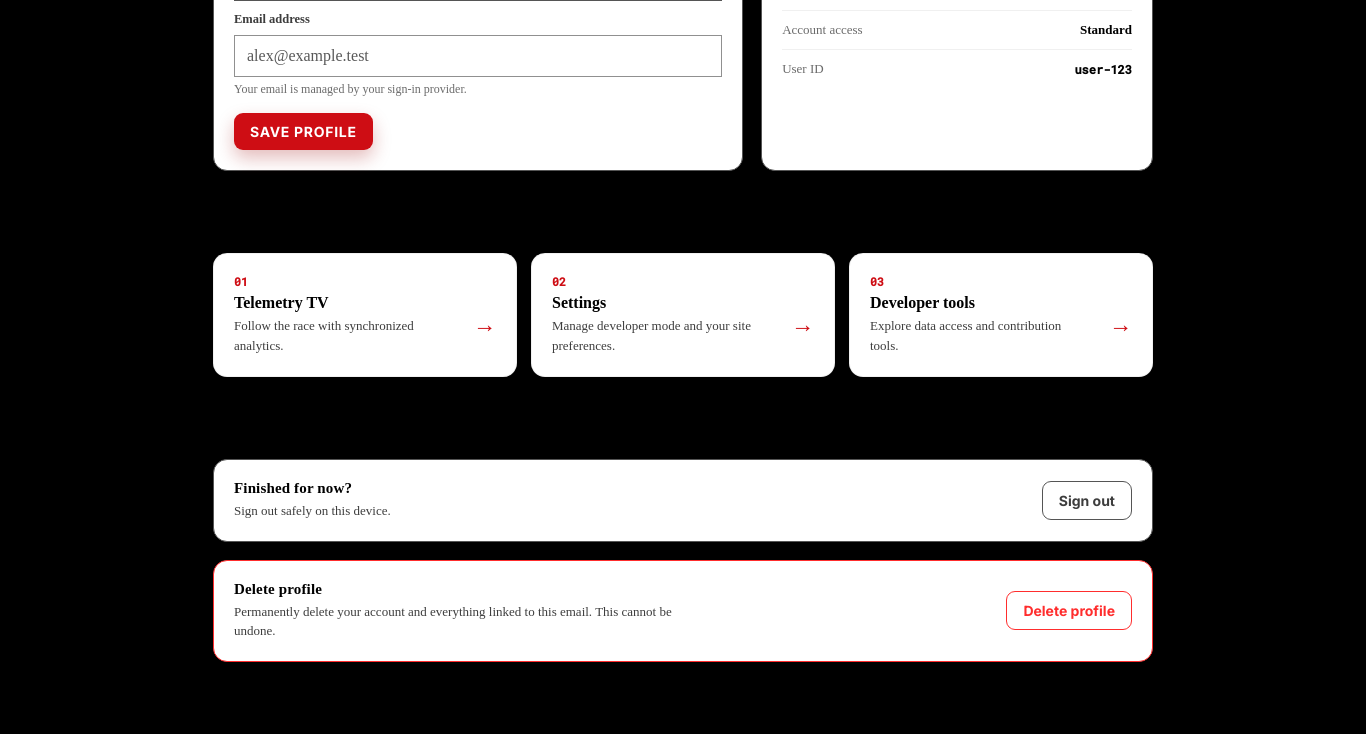
Test: ProfilePage › keeps the account and shows the error when the backend refuses
(page scrolled)
Step 1. Click the button "Delete profile" → (1069, 610), box [1006, 591, 1132, 630]
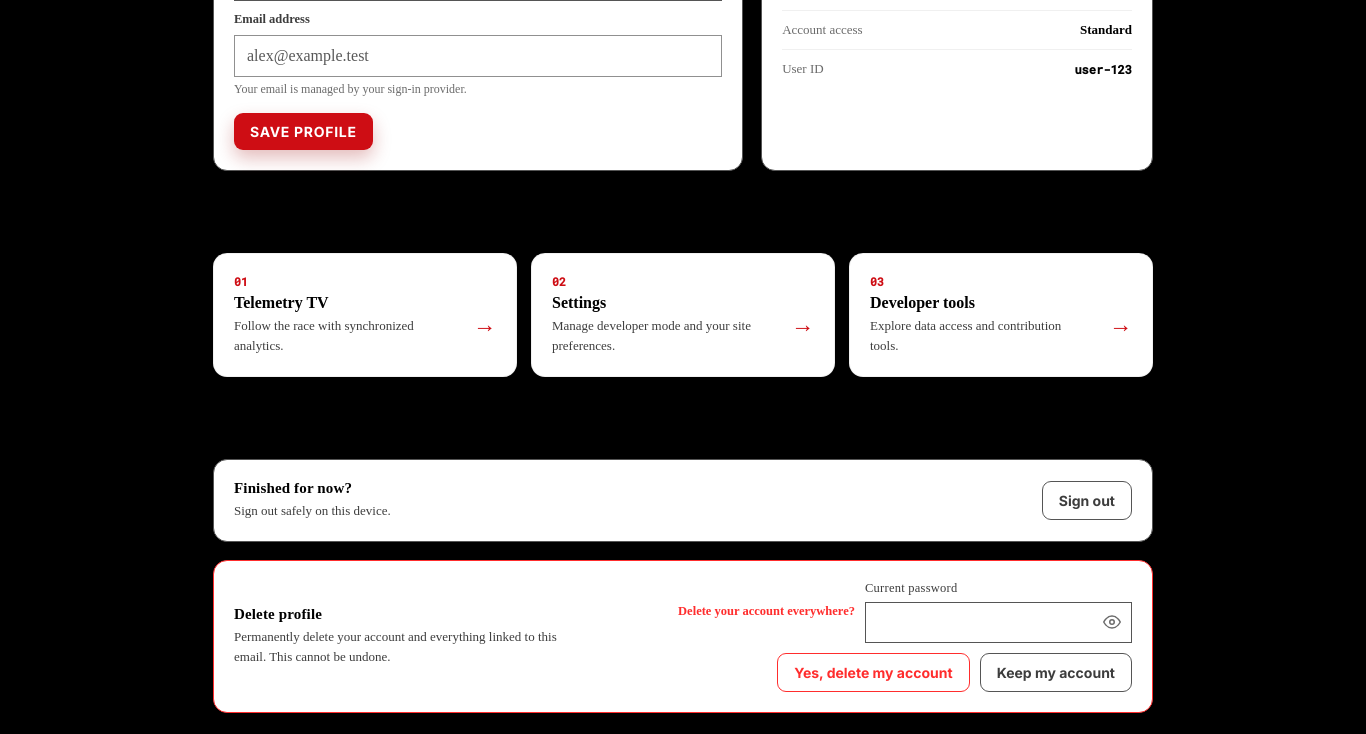
Step 2. Type "hunter2secret" into the password field labelled "Current password" → (998, 622), box [865, 602, 1132, 642]
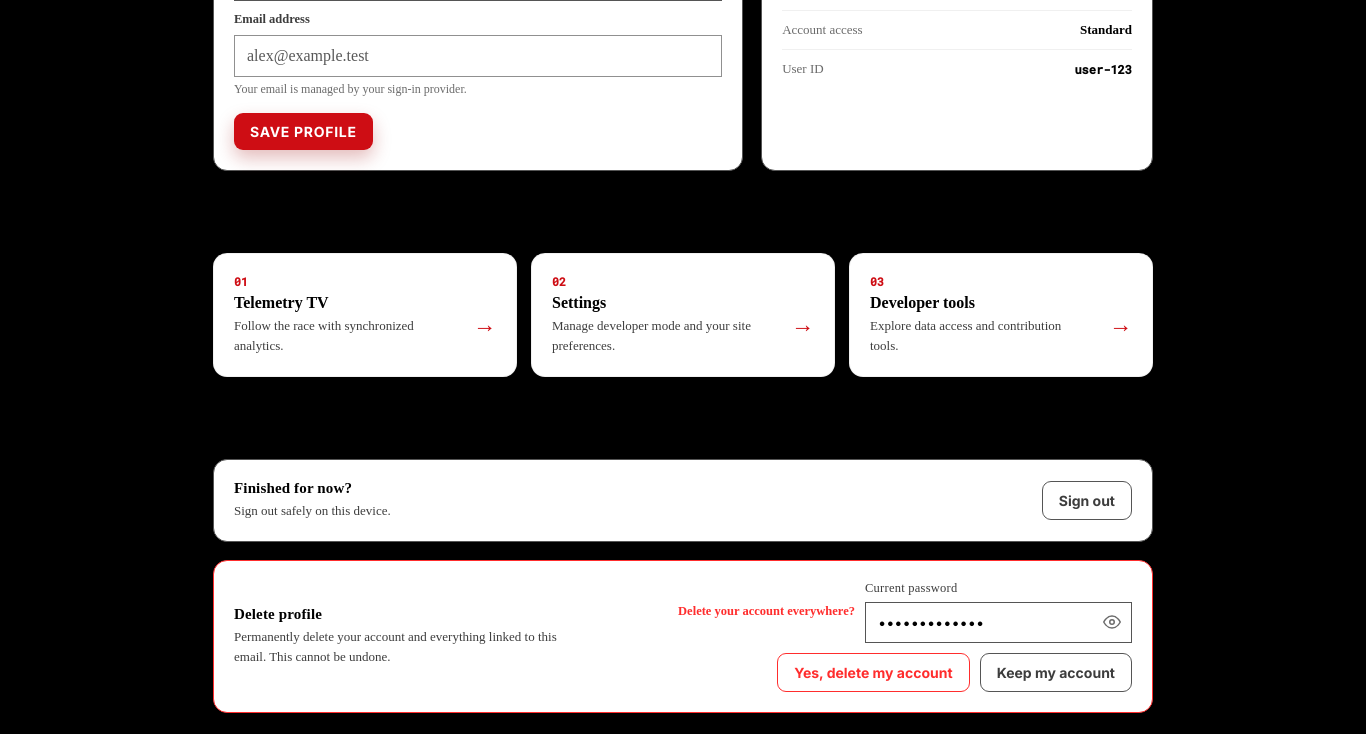
Step 3. Click the button "Yes, delete my account" → (873, 672), box [777, 652, 970, 692]
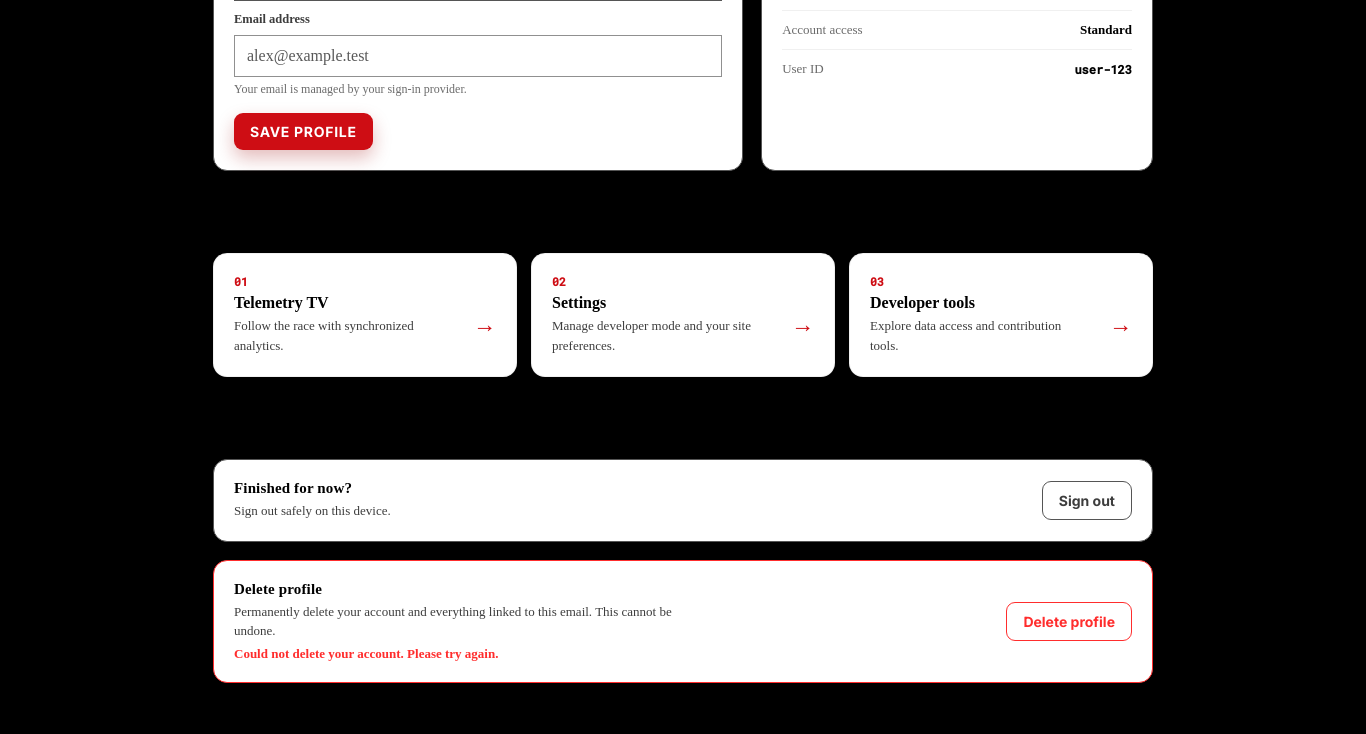
Check: the message shows "Could not delete your account", box [234, 646, 498, 660]
Check: the button "Delete profile" is shown, box [1006, 602, 1132, 640]
